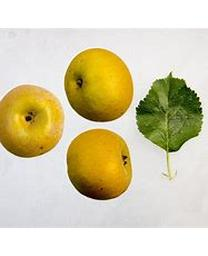apple: (63, 47, 134, 122), (0, 83, 65, 158), (67, 129, 132, 200)
